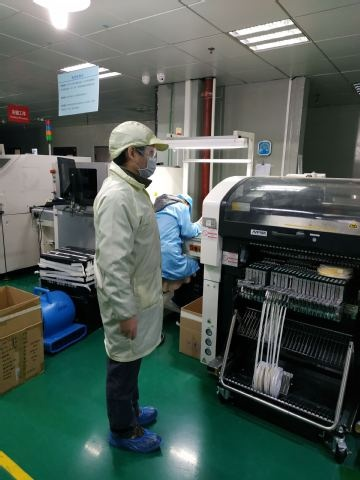correctlyWear: (126, 139, 159, 179)
